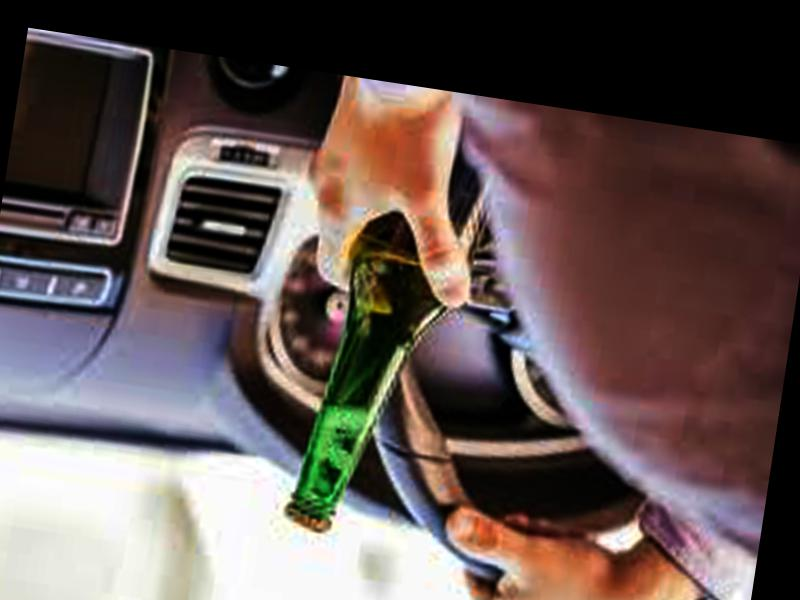Beer: (280, 120, 496, 552)
